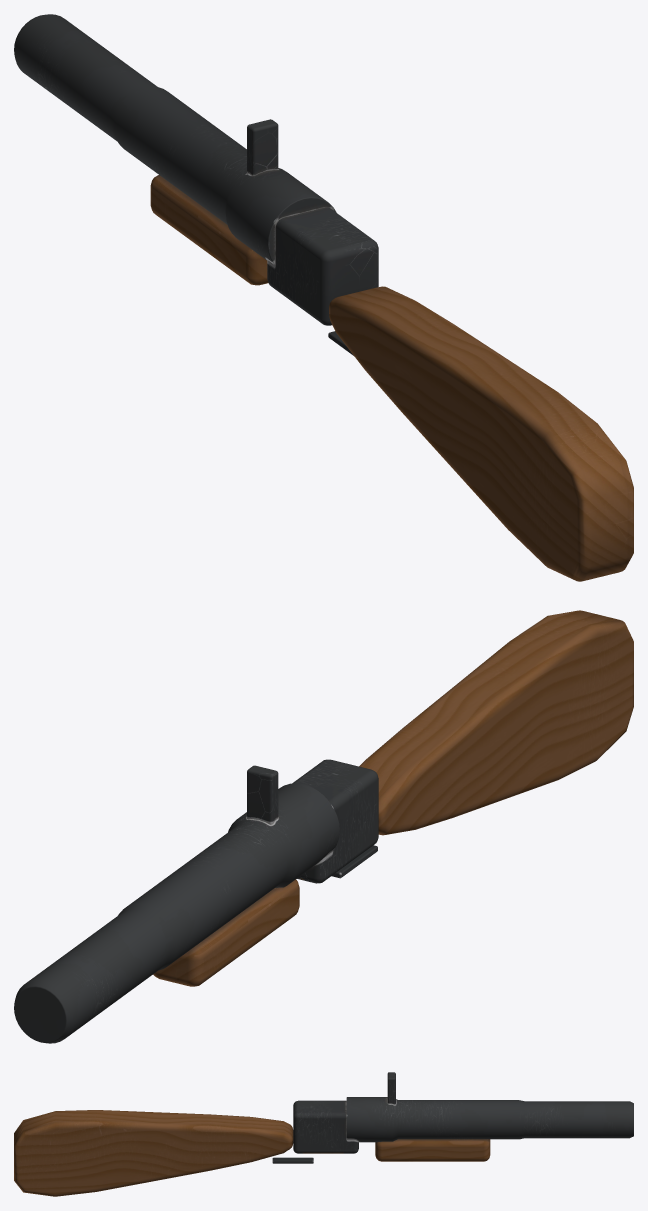
3 views of the same model, one above another, from view 1: azimuth 30°, elevation 25°; view 2: azimuth 150°, elevation 25°; view 3: azimuth 270°, elevation 25° (orthographic). The views are drawn at different scales.
Visible parts, largest first — view 1: Stock, Frame; view 2: Frame, Stock; view 3: Stock, Frame.
Boxes of the visible parts, <box> form: Stock: <box>329,286,633,581</box>; Frame: <box>14,14,378,355</box>; Frame: <box>14,759,378,1043</box>; Stock: <box>359,610,633,835</box>; Stock: <box>14,1110,293,1196</box>; Frame: <box>272,1072,633,1163</box>.
Bounding box in the file's own units: 0.0552 × 0.1558 × 0.755.
Materials: 3 (3 with a texture image).
